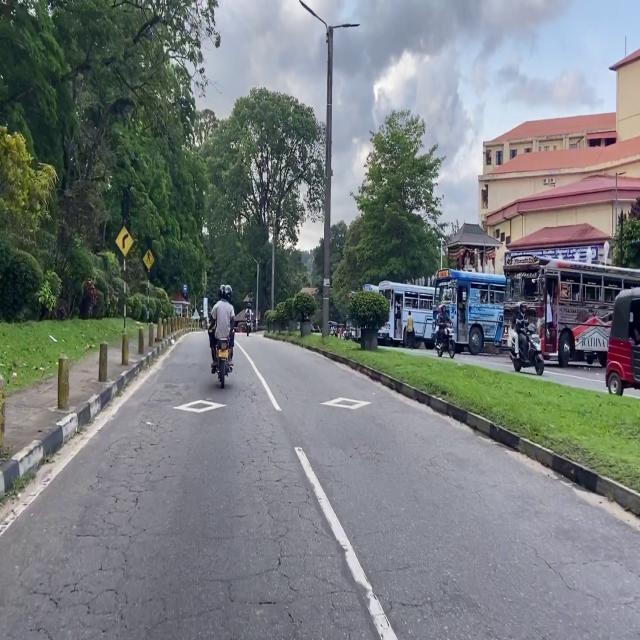bus: (503, 251, 640, 367), (432, 269, 505, 354), (379, 281, 434, 349), (346, 291, 360, 340), (363, 283, 379, 293)
motorcycle: (510, 324, 544, 375), (216, 340, 232, 388), (435, 322, 455, 358), (246, 321, 251, 336)
person: (209, 285, 234, 373), (515, 303, 528, 359), (511, 302, 520, 356), (437, 304, 447, 341), (406, 312, 414, 347), (546, 293, 552, 338), (245, 302, 251, 320), (330, 324, 335, 335)
three wheeler: (606, 287, 640, 395)
